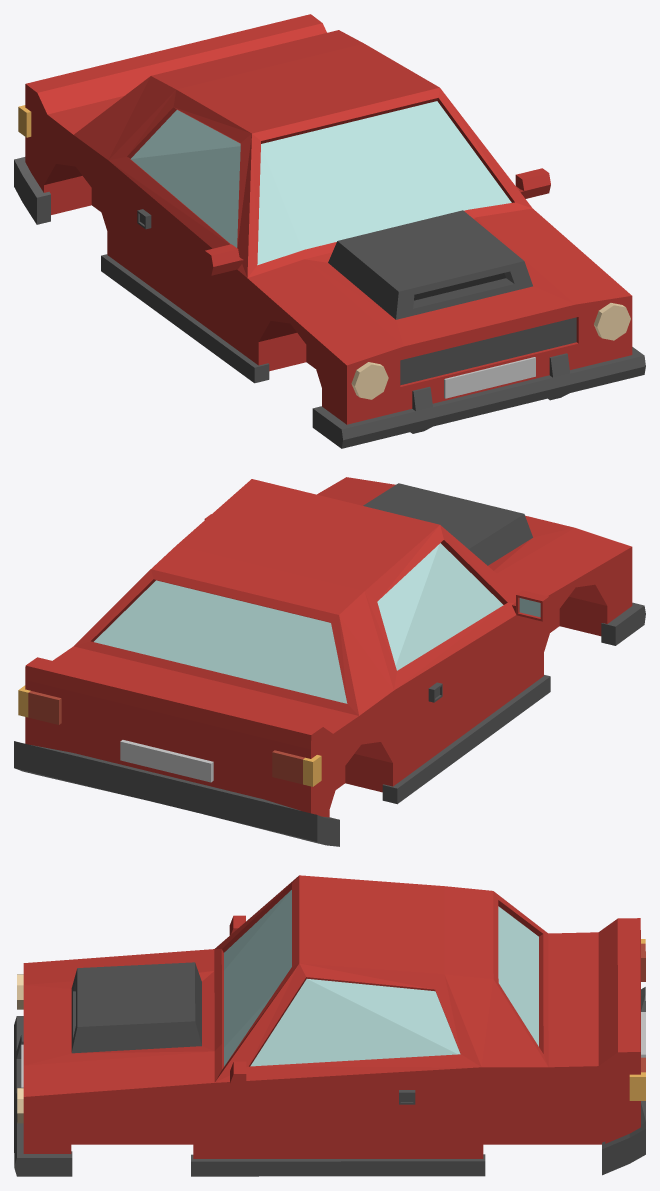
Rendered from Car_07.fbx.
The picture shows the model from 3 angles, top to bottom: view 1: azimuth 30°, elevation 25°; view 2: azimuth 150°, elevation 25°; view 3: azimuth 270°, elevation 25°; orthographic projection. The views are drawn at different scales.
Parts seen in each view (by area): view 1: Car_07; view 2: Car_07; view 3: Car_07.
Boxes of the visible parts, left/top/right/bottom form: Car_07: left=14, top=14, right=645, bottom=448; Car_07: left=14, top=477, right=645, bottom=846; Car_07: left=14, top=875, right=645, bottom=1176.
Size of the model in its own units: 190 by 109 by 320.
